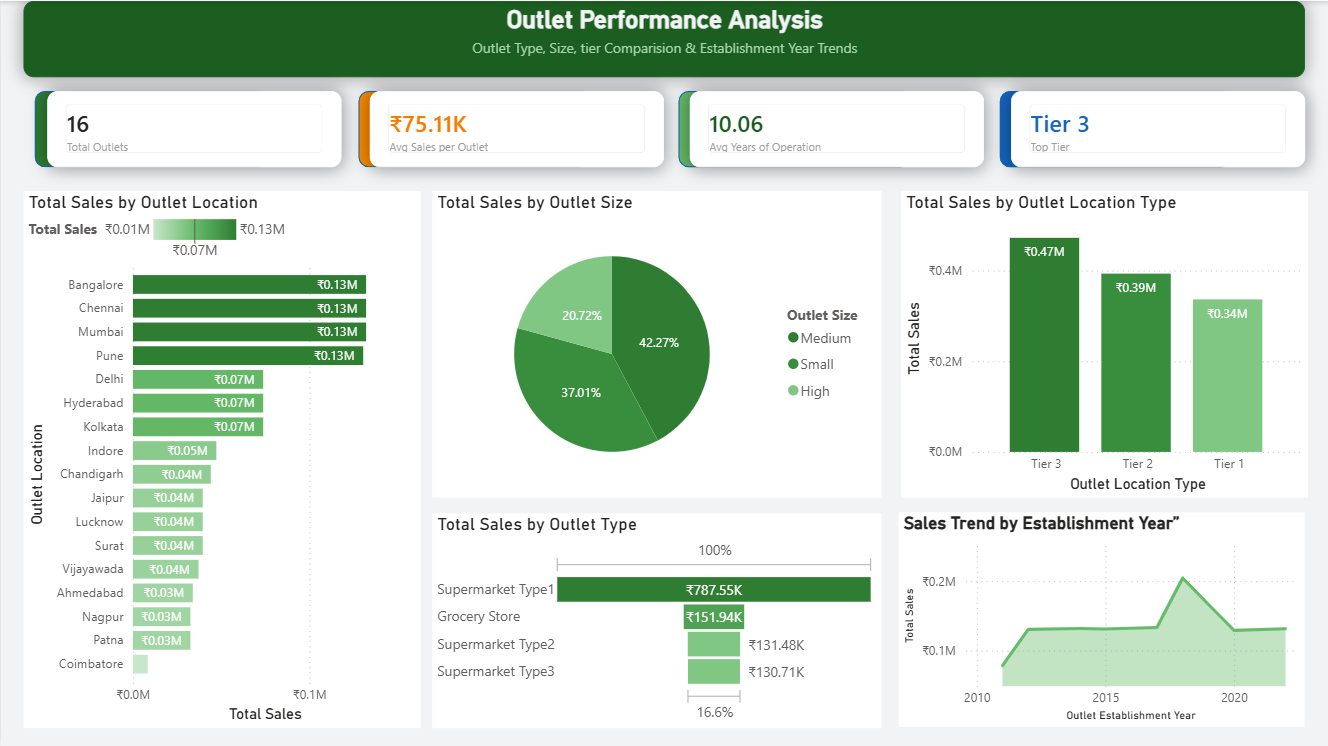

Layout of this report page (visuals, bound fields, positions):
{"tool":"powerbi","page":{"name":"Outlet Performance Analysis","canvas":[1280,720],"ordinal":2},"visuals":[{"type":"clusteredColumnChart","fields":{"Category":["Outlet Location.Outlet Location Type"],"Y":["BlinkIT Grocery Data.Total Sales"]},"box":[868.1,183.3,393.1,295.8],"z":8000},{"type":"pieChart","fields":{"Category":["Outlet Info.Outlet Size"],"Y":["BlinkIT Grocery Data.Total Sales"]},"box":[416.7,183.3,433.3,295.8],"z":9000},{"type":"lineChart","title":"Sales Trend by Establishment Year”","fields":{"Y":["BlinkIT Grocery Data.Total Sales"],"Category":["Outlet Info.Outlet Establishment Year"]},"box":[866.7,493.1,391.7,206.9],"z":10000},{"type":"clusteredBarChart","fields":{"Category":["Cities.Outlet Location"],"Y":["BlinkIT Grocery Data.Total Sales"]},"box":[22.2,183.3,383.3,518.1],"z":11000},{"type":"funnel","fields":{"Category":["Outlet Info.Outlet Type"],"Y":["BlinkIT Grocery Data.Total Sales"]},"box":[416.7,494.4,433.3,206.9],"z":12000},{"type":"shape","title":"Outlet Performance Analysis","box":[21.6,0,1236.4,73.6],"z":12001},{"type":"shape","box":[33.1,87.1,223.6,73.6],"z":12002},{"type":"cardVisual","fields":{"Data":["BlinkIT Grocery Data.Total Outlets"]},"box":[44.6,87.1,284.2,73.6],"z":12003},{"type":"shape","box":[344.7,87.1,223.6,73.6],"z":12004},{"type":"cardVisual","fields":{"Data":["BlinkIT Grocery Data.Avg Sales per Outlet"]},"box":[356.3,87.1,284.2,73.6],"z":12005},{"type":"shape","box":[963.7,87.1,223.6,73.6],"z":12006},{"type":"cardVisual","fields":{"Data":["Outlet Location.Top Tier"]},"box":[975.2,87.1,284.2,73.6],"z":12007},{"type":"shape","box":[653.5,87.1,223.6,73.6],"z":12008},{"type":"cardVisual","fields":{"Data":["BlinkIT Grocery Data.Avg Years of Operation"]},"box":[665,87.1,284.2,73.6],"z":12009}]}

Visuals, with their boxes in screenshot pixels (x1, y1, x2, y2), scaled from the page's 1280x720 canvas onto the 1328x746 screenshot:
clusteredColumnChart - Outlet Location.Outlet Location Type x BlinkIT Grocery Data.Total Sales: crop(901, 190, 1308, 496)
pieChart - Outlet Info.Outlet Size x BlinkIT Grocery Data.Total Sales: crop(432, 190, 882, 496)
"Sales Trend by Establishment Year”" lineChart: crop(899, 511, 1306, 725)
clusteredBarChart - Cities.Outlet Location x BlinkIT Grocery Data.Total Sales: crop(23, 190, 421, 727)
funnel - Outlet Info.Outlet Type x BlinkIT Grocery Data.Total Sales: crop(432, 512, 882, 727)
"Outlet Performance Analysis" shape: crop(22, 0, 1305, 76)
shape: crop(34, 90, 266, 167)
cardVisual - BlinkIT Grocery Data.Total Outlets: crop(46, 90, 341, 167)
shape: crop(358, 90, 590, 167)
cardVisual - BlinkIT Grocery Data.Avg Sales per Outlet: crop(370, 90, 665, 167)
shape: crop(1000, 90, 1232, 167)
cardVisual - Outlet Location.Top Tier: crop(1012, 90, 1307, 167)
shape: crop(678, 90, 910, 167)
cardVisual - BlinkIT Grocery Data.Avg Years of Operation: crop(690, 90, 985, 167)
